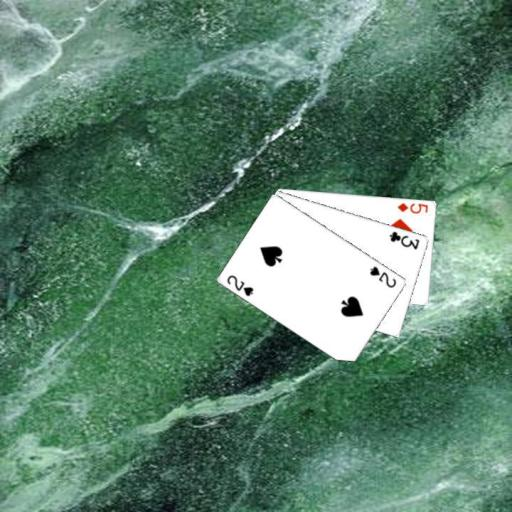2S: (367, 263, 398, 290), (224, 272, 255, 298)
3C: (387, 228, 421, 251)
5D: (395, 199, 430, 215)
